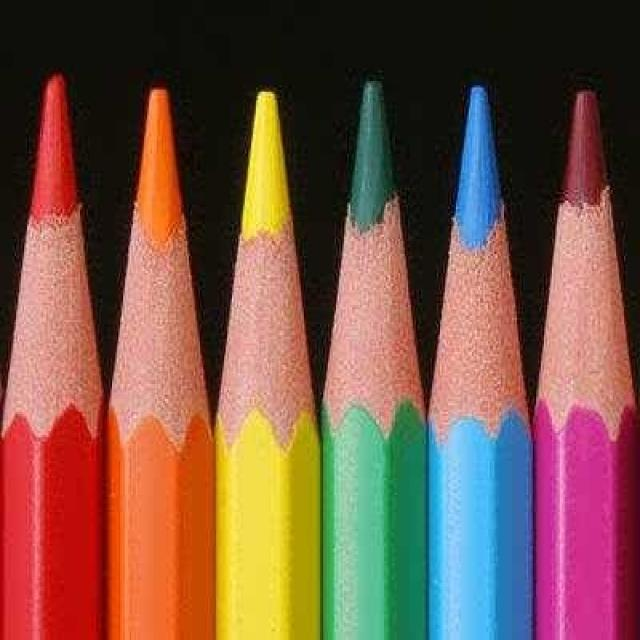pencil: (213, 61, 325, 638), (423, 71, 534, 638), (105, 63, 215, 635), (527, 76, 638, 638), (322, 66, 429, 638), (1, 54, 103, 638)
